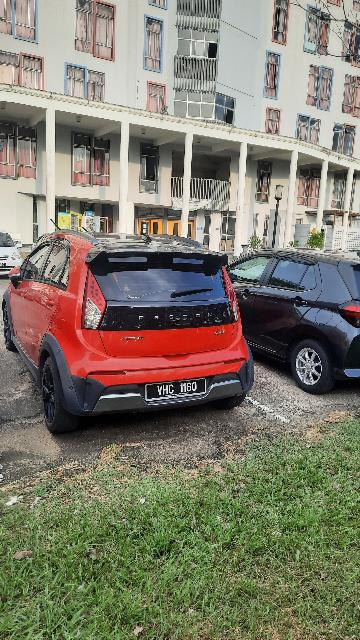License_Plate: (142, 373, 209, 405)
car: (1, 228, 255, 436), (221, 243, 360, 399)
